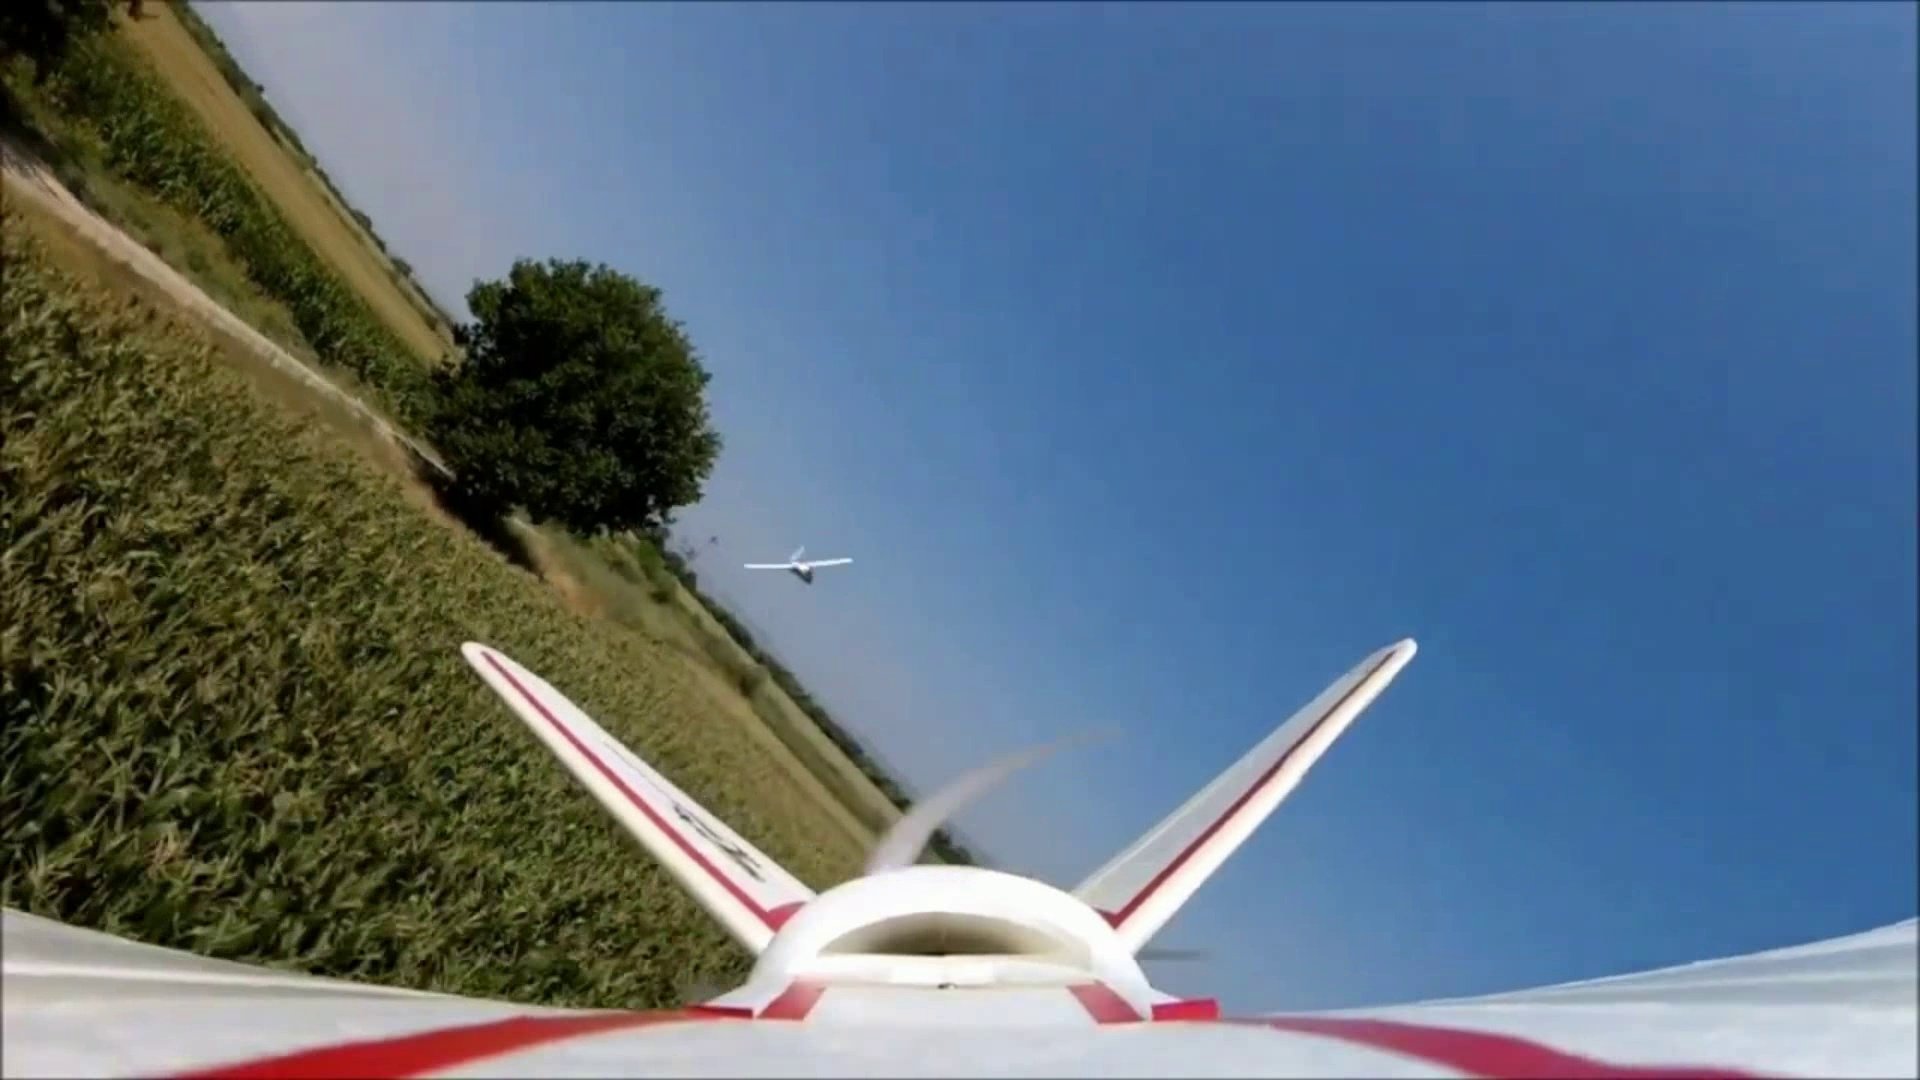airplane: (755, 551, 855, 584), (786, 551, 856, 583)
